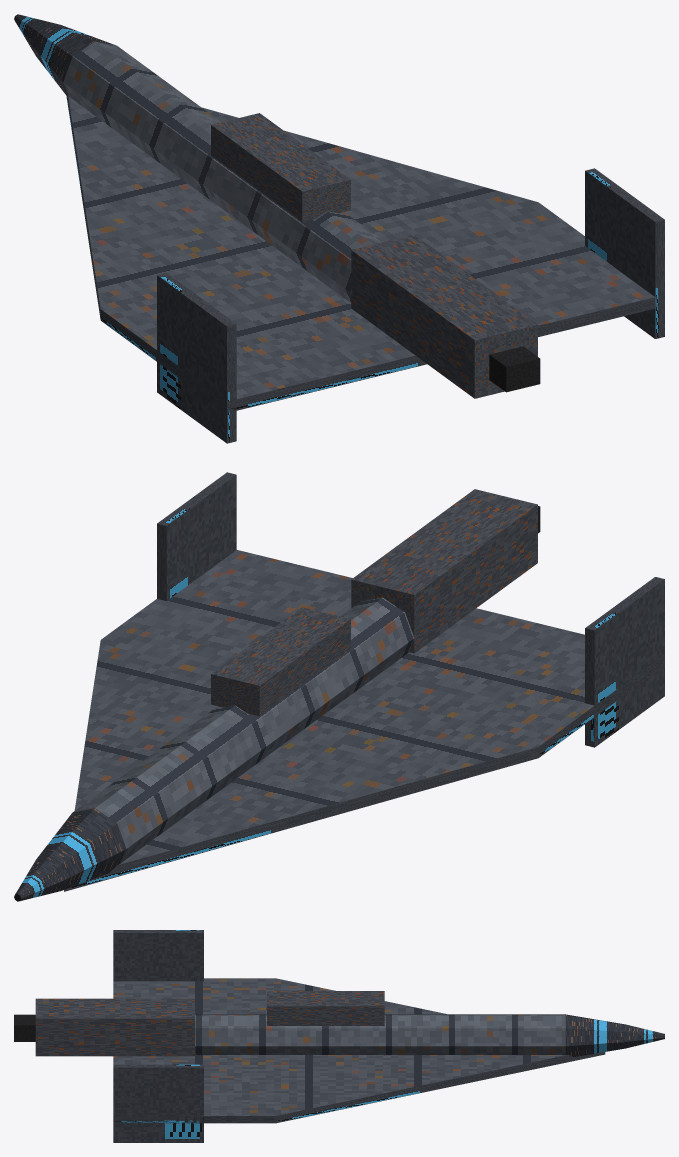
File: shahed_238_pilot.glb
3 views of the same model, one above another, from view 1: azimuth 30°, elevation 25°; view 2: azimuth 150°, elevation 25°; view 3: azimuth 270°, elevation 25° (orthographic). The views are drawn at different scales.
Visible parts, largest first — view 1: airframe; view 2: airframe; view 3: airframe.
Part boxes in pixels (<box>): airframe: <box>14,14,664,443</box>; airframe: <box>14,472,664,901</box>; airframe: <box>14,930,664,1142</box>.
Bounding box in the file's own units: 1.8 × 0.46 × 3.6.
Materials: 1 (1 with a texture image).
